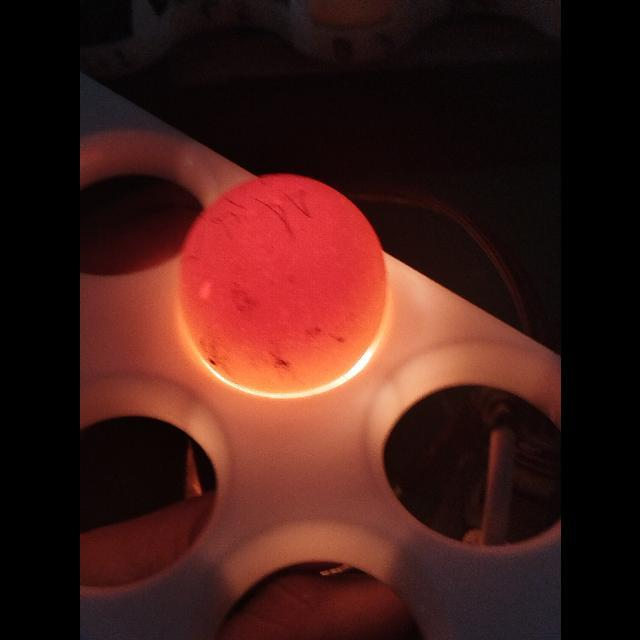Infertile: (172, 170, 390, 398)
